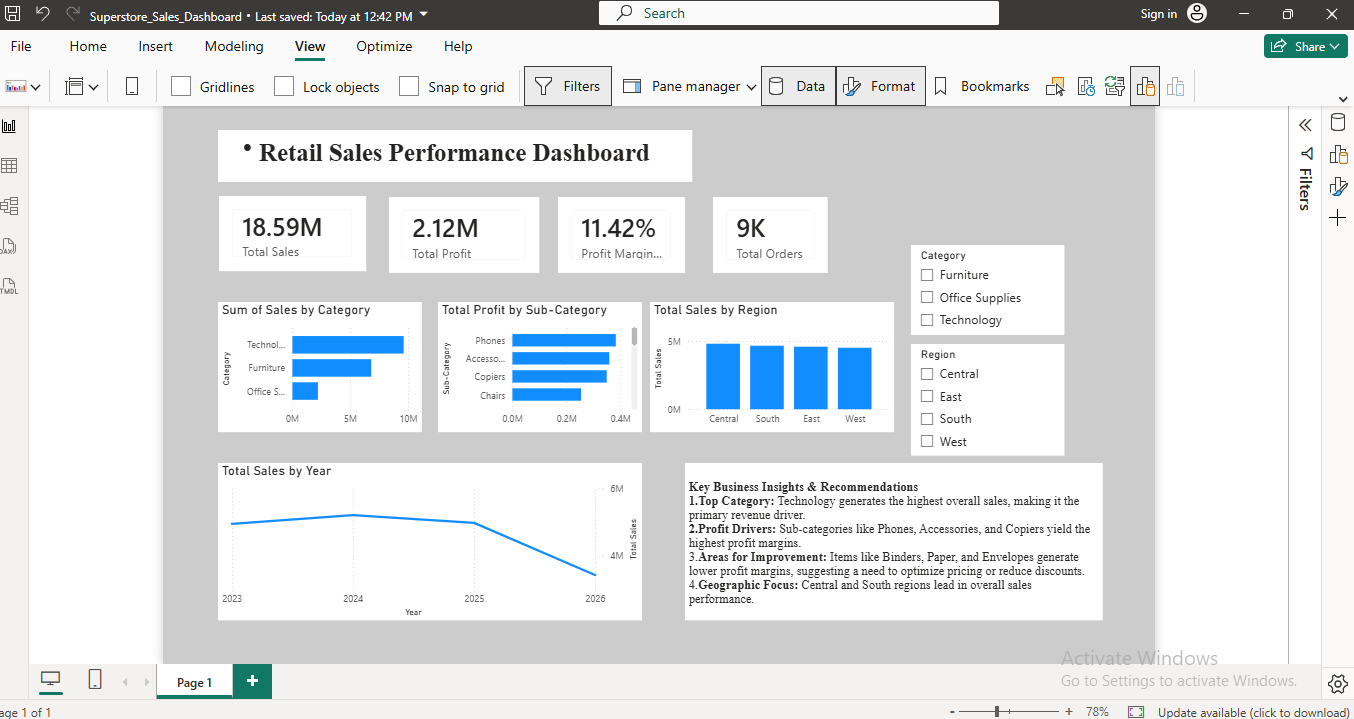

This screenshot's page, from the dashboard's own definition file:
{"tool":"powerbi","page":{"name":"Page 1","canvas":[1280,720],"ordinal":0},"visuals":[{"type":"cardVisual","fields":{"Data":["Sample_Superstore.Total Sales"]},"box":[72,115.9,189.6,96.6],"z":0},{"type":"cardVisual","fields":{"Data":["Sample_Superstore.Total Profit"]},"box":[292,116.8,193.9,98.1],"z":1000},{"type":"cardVisual","fields":{"Data":["Sample_Superstore.Profit Margin %"]},"box":[509.2,116.8,163.5,98.1],"z":2000},{"type":"cardVisual","fields":{"Data":["Sample_Superstore.Total Orders"]},"box":[709.2,117,148.4,98.5],"z":3000},{"type":"slicer","fields":{"Values":["Sample_Superstore.Region"]},"box":[964.6,306.8,198.4,144.1],"z":4000},{"type":"slicer","fields":{"Values":["Sample_Superstore.Category"]},"box":[964.6,179.8,198.4,115.6],"z":5000},{"type":"textbox","box":[71.3,31.4,612.2,67.1],"z":6000},{"type":"clusteredBarChart","fields":{"Category":["Sample_Superstore.Category"],"Y":["Sum(Sample_Superstore.Sales)"]},"box":[71.3,252.6,262.6,168.4],"z":6001},{"type":"clusteredBarChart","fields":{"Category":["Sample_Superstore.Sub-Category"],"Y":["Sample_Superstore.Total Profit"]},"box":[355.3,252.6,262.6,168.4],"z":6002},{"type":"lineChart","fields":{"Category":["Sample_Superstore.Order Date.Variation.Date Hierarchy.Year","Sample_Superstore.Order Date.Variation.Date Hierarchy.Quarter","Sample_Superstore.Order Date.Variation.Date Hierarchy.Month","Sample_Superstore.Order Date.Variation.Date Hierarchy.Day"],"Y2":["Sample_Superstore.Total Sales"]},"box":[71.3,460.9,546.5,202.6],"z":6003},{"type":"clusteredColumnChart","fields":{"Y":["Sample_Superstore.Total Sales"],"Category":["Sample_Superstore.Region"]},"box":[627.9,252.6,315.4,168.4],"z":6004},{"type":"textbox","box":[673.5,460.9,539.4,202.6],"z":6005}]}

Visuals, with their boxes on the page's 1280x720 design canvas (x1, y1, x2, y2). These are canvas units, not pixel positions in the 1354x719 screenshot, which may show the page scaled, cropped or inside an application window:
cardVisual - Sample_Superstore.Total Sales: (x1=72, y1=116, x2=262, y2=212)
cardVisual - Sample_Superstore.Total Profit: (x1=292, y1=117, x2=486, y2=215)
cardVisual - Sample_Superstore.Profit Margin %: (x1=509, y1=117, x2=673, y2=215)
cardVisual - Sample_Superstore.Total Orders: (x1=709, y1=117, x2=858, y2=216)
slicer - Sample_Superstore.Region: (x1=965, y1=307, x2=1163, y2=451)
slicer - Sample_Superstore.Category: (x1=965, y1=180, x2=1163, y2=295)
textbox: (x1=71, y1=31, x2=684, y2=98)
clusteredBarChart - Sample_Superstore.Category x Sum(Sample_Superstore.Sales): (x1=71, y1=253, x2=334, y2=421)
clusteredBarChart - Sample_Superstore.Sub-Category x Sample_Superstore.Total Profit: (x1=355, y1=253, x2=618, y2=421)
lineChart - Sample_Superstore.Order Date.Variation.Date Hierarchy.Year x Sample_Superstore.Order Date.Variation.Date Hierarchy.Quarter: (x1=71, y1=461, x2=618, y2=664)
clusteredColumnChart - Sample_Superstore.Total Sales x Sample_Superstore.Region: (x1=628, y1=253, x2=943, y2=421)
textbox: (x1=674, y1=461, x2=1213, y2=664)
